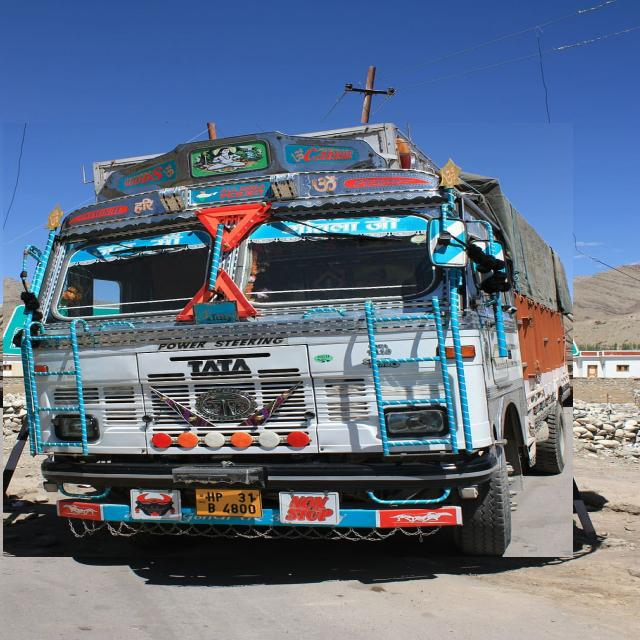truck: (3, 123, 572, 557)
